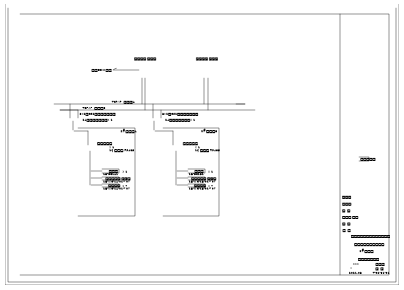room: (344, 10, 394, 280)
wall: (161, 71, 219, 163), (75, 71, 133, 163)
